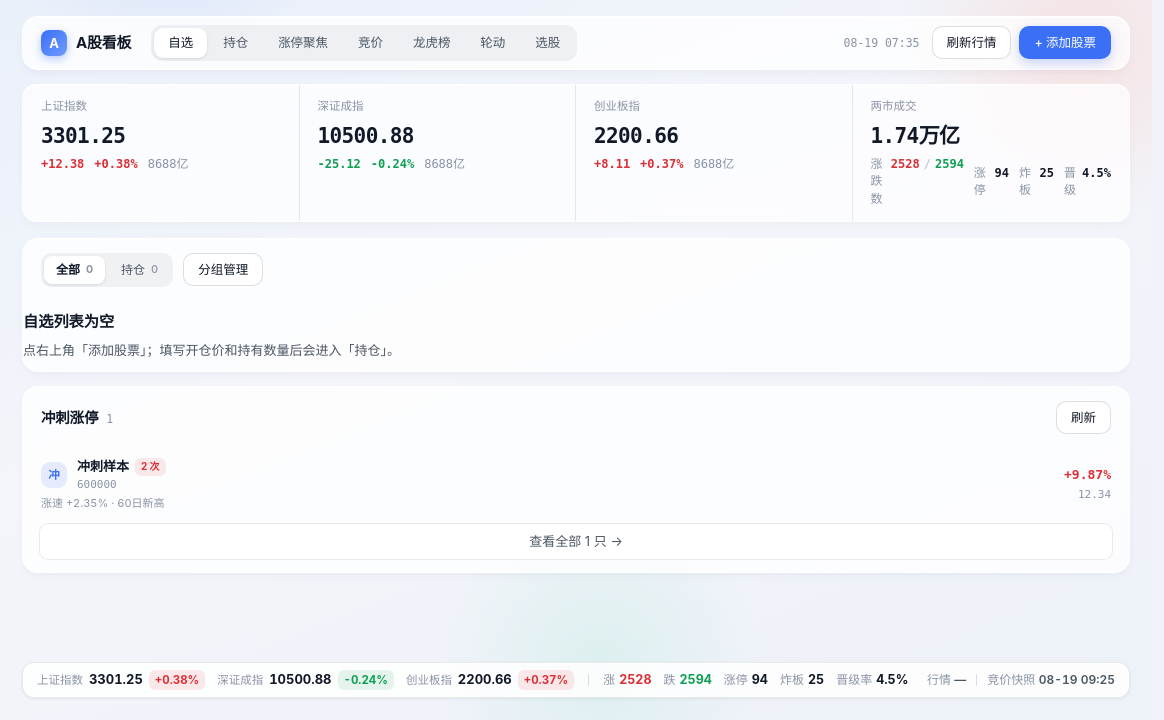
Test: Task 7 app interactions › preloads the sprint pool for the watchlist rail and keeps the 竞价 badge populated
Expected: the heading "冲刺涨停" is shown, 41,407 -> 98,428
Expected: the text "冲刺样本" is shown, 77,458 -> 129,474
Click the button "竞价" at (370, 43), box 344,28 -> 397,58
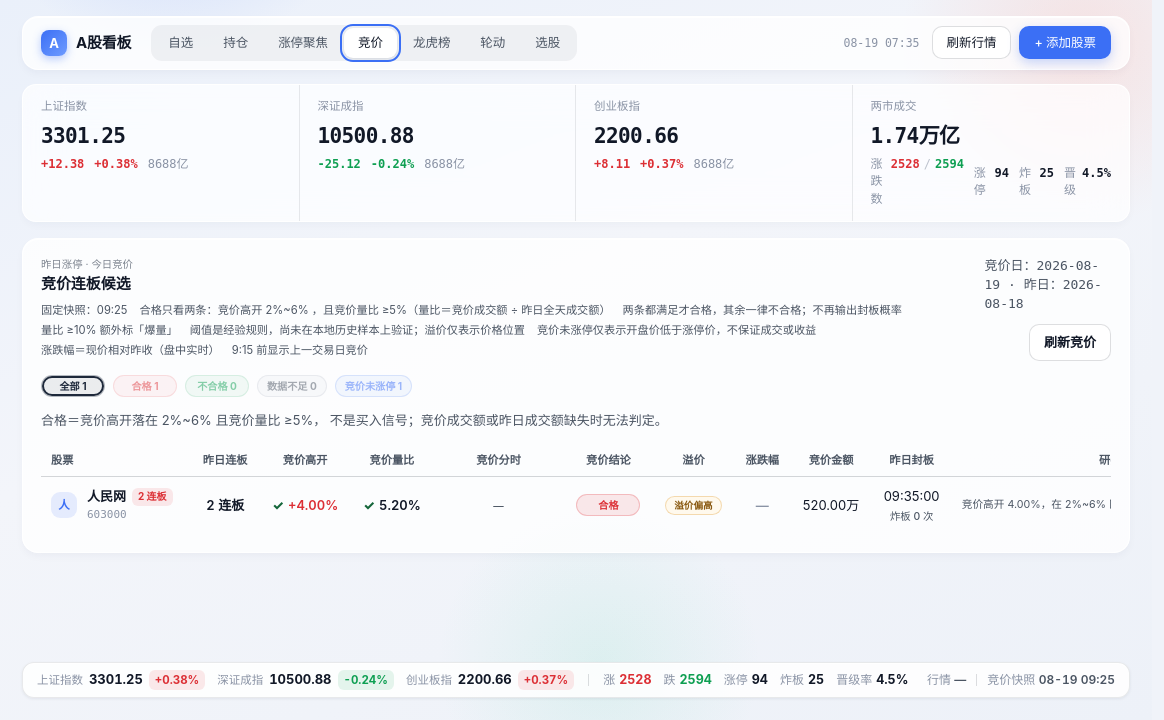
Result: the heading "竞价连板候选" is shown at 41,275 -> 131,293
Result: the text "人民网" is shown at 87,488 -> 126,504
Result: the column heading "竞价结论" is shown at 564,444 -> 653,476
